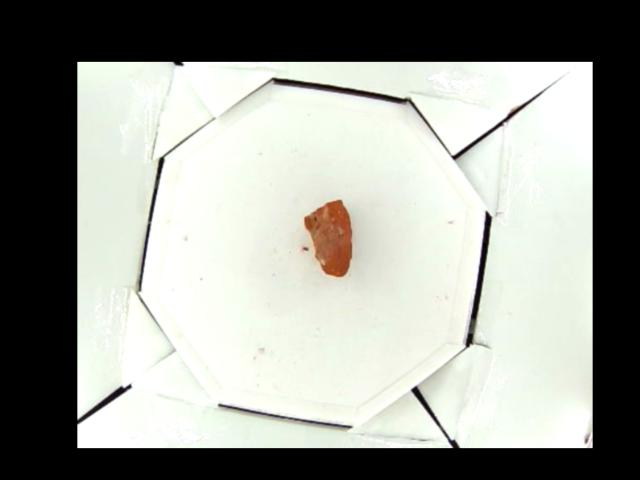Brisk: (304, 196, 354, 275)
